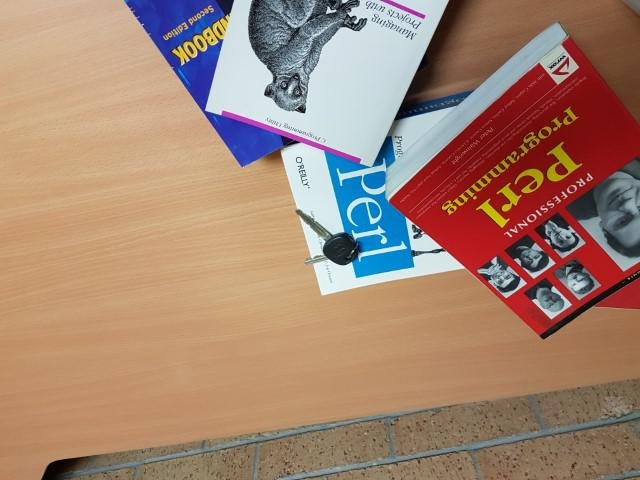key: (295, 208, 358, 266)
